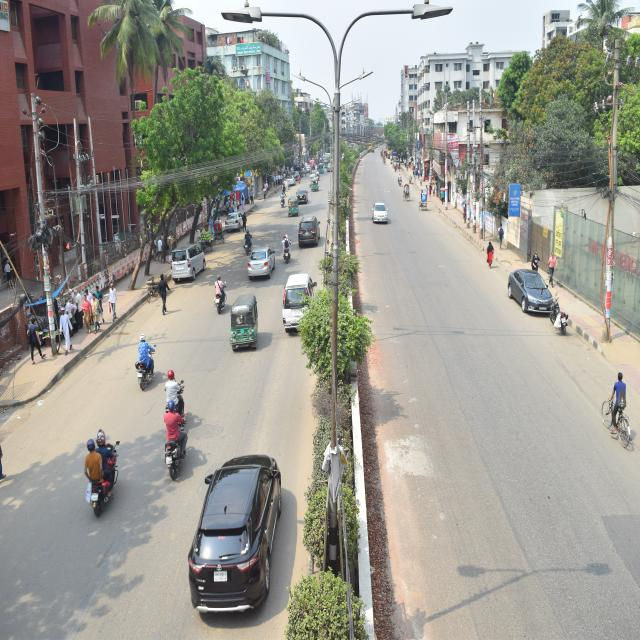car: (186, 439, 278, 602), (505, 267, 553, 320), (281, 271, 315, 339), (247, 242, 273, 284), (296, 212, 320, 251), (219, 204, 246, 233), (370, 204, 389, 228), (296, 191, 313, 211), (286, 174, 300, 190)
microbus: (168, 242, 222, 288)
motorbike: (82, 432, 127, 506), (151, 392, 187, 472), (544, 288, 578, 341), (131, 331, 155, 396), (161, 362, 186, 417), (202, 270, 230, 312), (272, 220, 294, 272), (238, 222, 255, 262), (274, 193, 288, 212)
